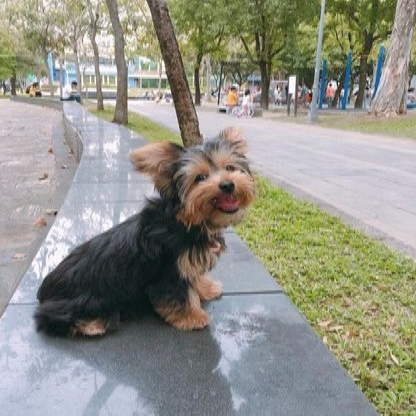yorkshire: (32, 126, 258, 341)
